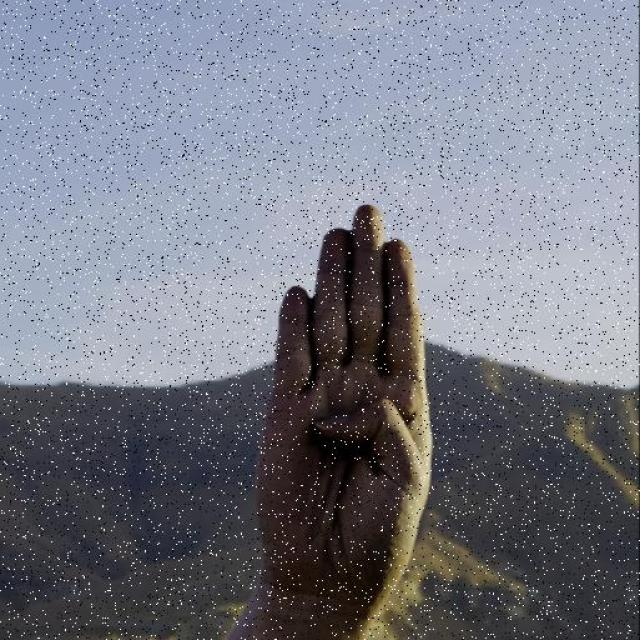B: (231, 172, 450, 640)
